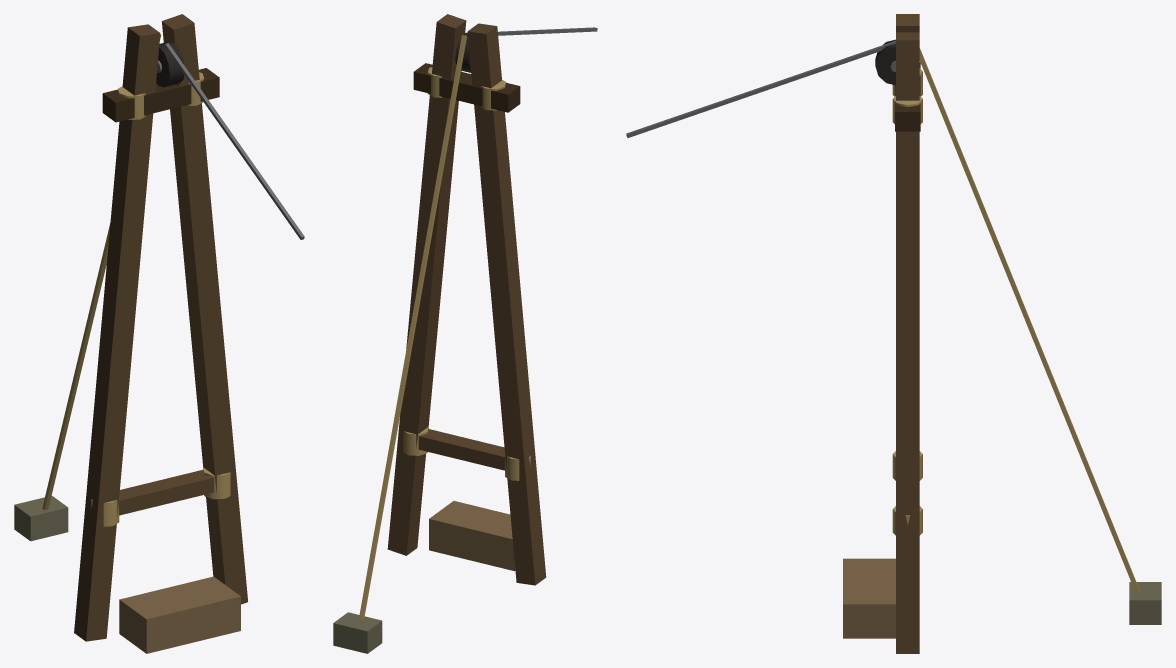
The model's file is jt_zipline_post.glb.
3 views of the same model, side by side, from view 1: azimuth 30°, elevation 25°; view 2: azimuth 150°, elevation 25°; view 3: azimuth 270°, elevation 25° (orthographic). The views are drawn at different scales.
Visible parts, largest first — view 1: jt_zipline_post; view 2: jt_zipline_post; view 3: jt_zipline_post.
Boxes of the visible parts, x1=… form: jt_zipline_post: x1=14, y1=14, x2=304, y2=653; jt_zipline_post: x1=333, y1=14, x2=597, y2=653; jt_zipline_post: x1=626, y1=14, x2=1161, y2=653.
Size of the model in its own units: 1.72 by 6.02 by 4.96.
